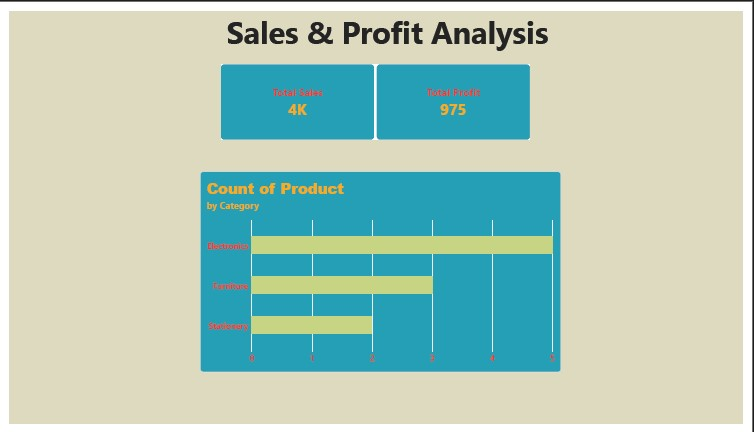

The page's visual inventory and layout, read from the dashboard file:
{"tool":"powerbi","page":{"name":"Page 1","canvas":[1920,1080],"ordinal":0},"visuals":[{"type":"cardVisual","fields":{"Data":["Sales.Total Sales","Sales.Total Profit"]},"box":[555,140,808,196],"z":0},{"type":"textbox","box":[485,0,1010,140],"z":1000},{"type":"barChart","fields":{"Category":["Sales.Category"],"Y":["CountNonNull(Sales.Product)"]},"box":[500,420,945,525],"z":1001}]}

Visuals, with their boxes in screenshot pixels (x1, y1, x2, y2), scaled from the page's 1920x1080 canvas onto the 754x432 screenshot:
cardVisual - Sales.Total Sales x Sales.Total Profit: BBox(218, 56, 535, 134)
textbox: BBox(190, 0, 587, 56)
barChart - Sales.Category x CountNonNull(Sales.Product): BBox(196, 168, 567, 378)
